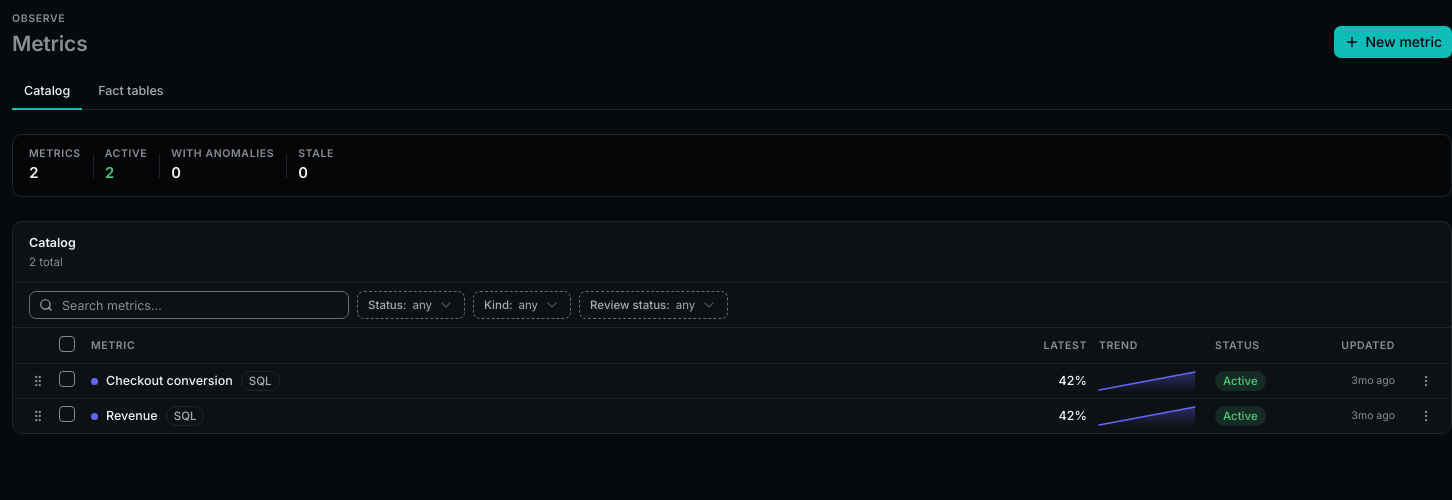
Test: MetricsPage › bulk actions and reorder (tripl-57o8) › select-all covers every visible row
The width and height of the screenshot is (1452, 500).
Click the checkbox named "Select all metrics" at (67, 344), box left=59, top=336, right=75, bottom=352
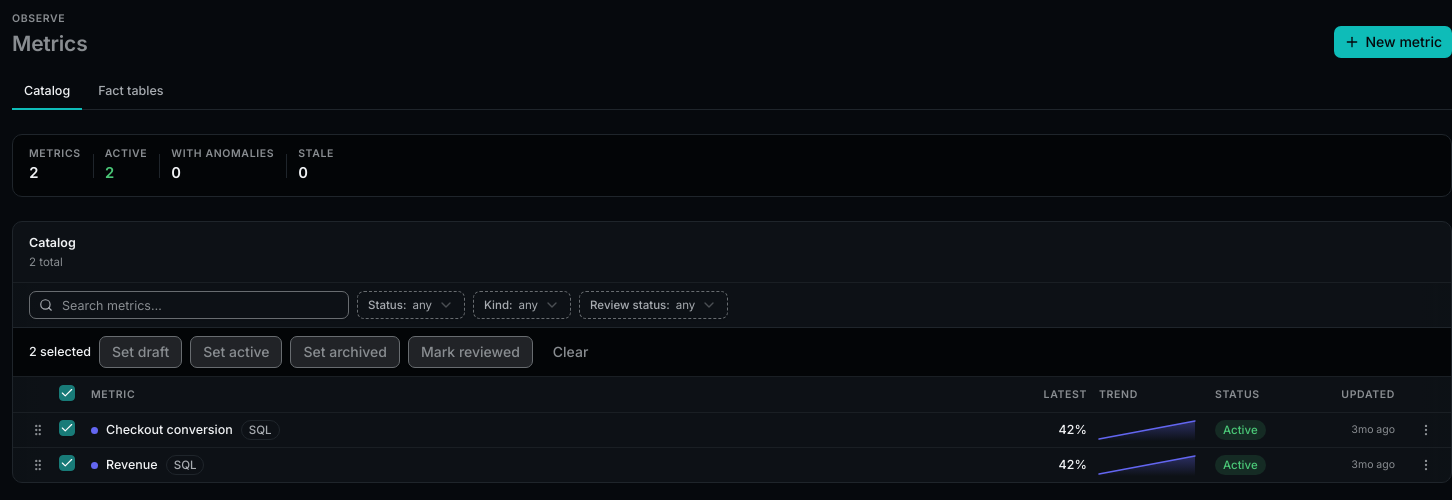
Expected: the text "2 selected" is shown, left=29, top=343, right=91, bottom=361
